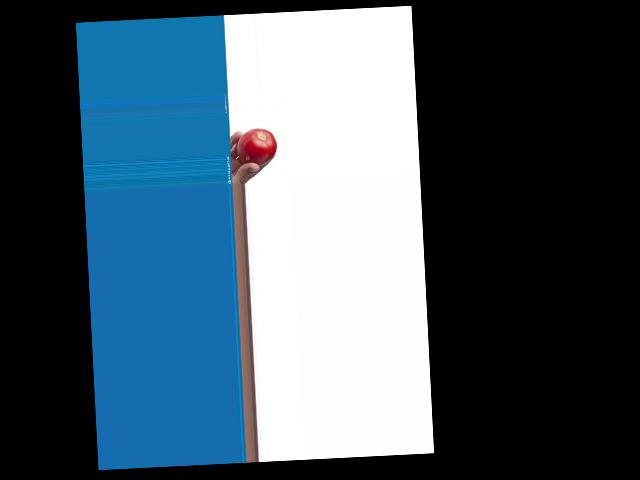tomato: (235, 127, 277, 167)
